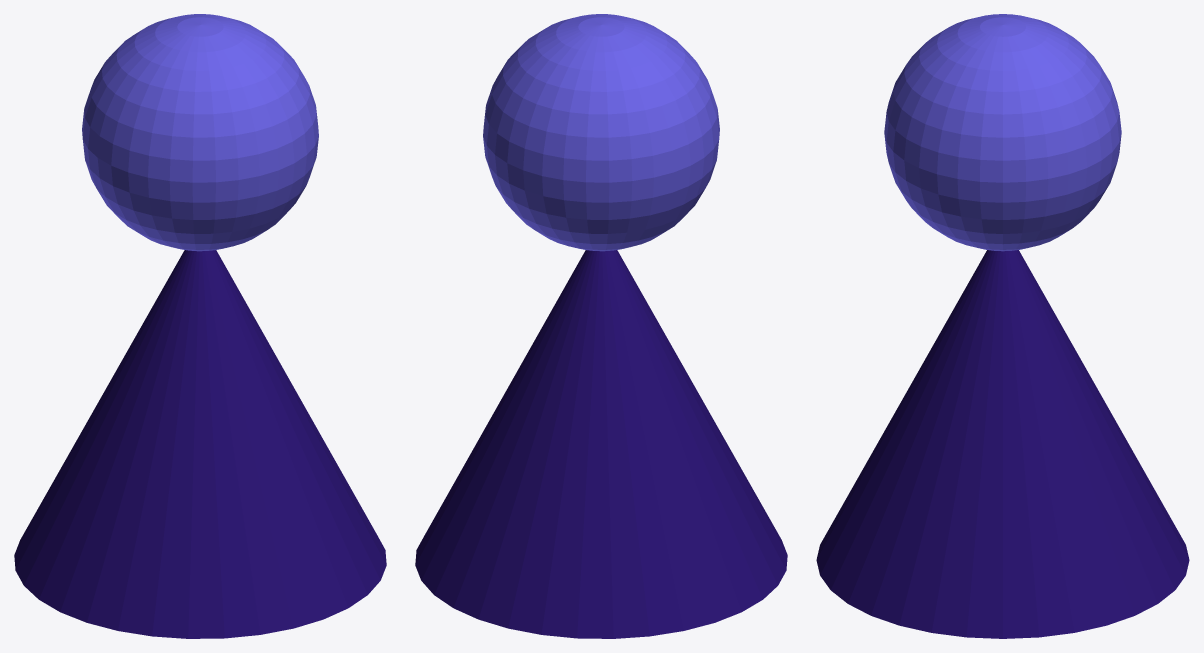
Rendered from Agent2.fbx.
The picture shows the model from 3 angles, left to right: view 1: azimuth 30°, elevation 25°; view 2: azimuth 150°, elevation 25°; view 3: azimuth 270°, elevation 25°; orthographic projection.
Parts seen in each view (by area): view 1: Cone, Sphere; view 2: Cone, Sphere; view 3: Cone, Sphere.
Boxes of the visible parts, bbox=[...] form: Cone: bbox=[14, 250, 386, 638]; Sphere: bbox=[82, 14, 318, 251]; Cone: bbox=[415, 250, 787, 638]; Sphere: bbox=[483, 14, 719, 251]; Cone: bbox=[816, 250, 1189, 638]; Sphere: bbox=[884, 14, 1121, 251].
Bounding box in the file's own units: 314 × 497 × 314.
